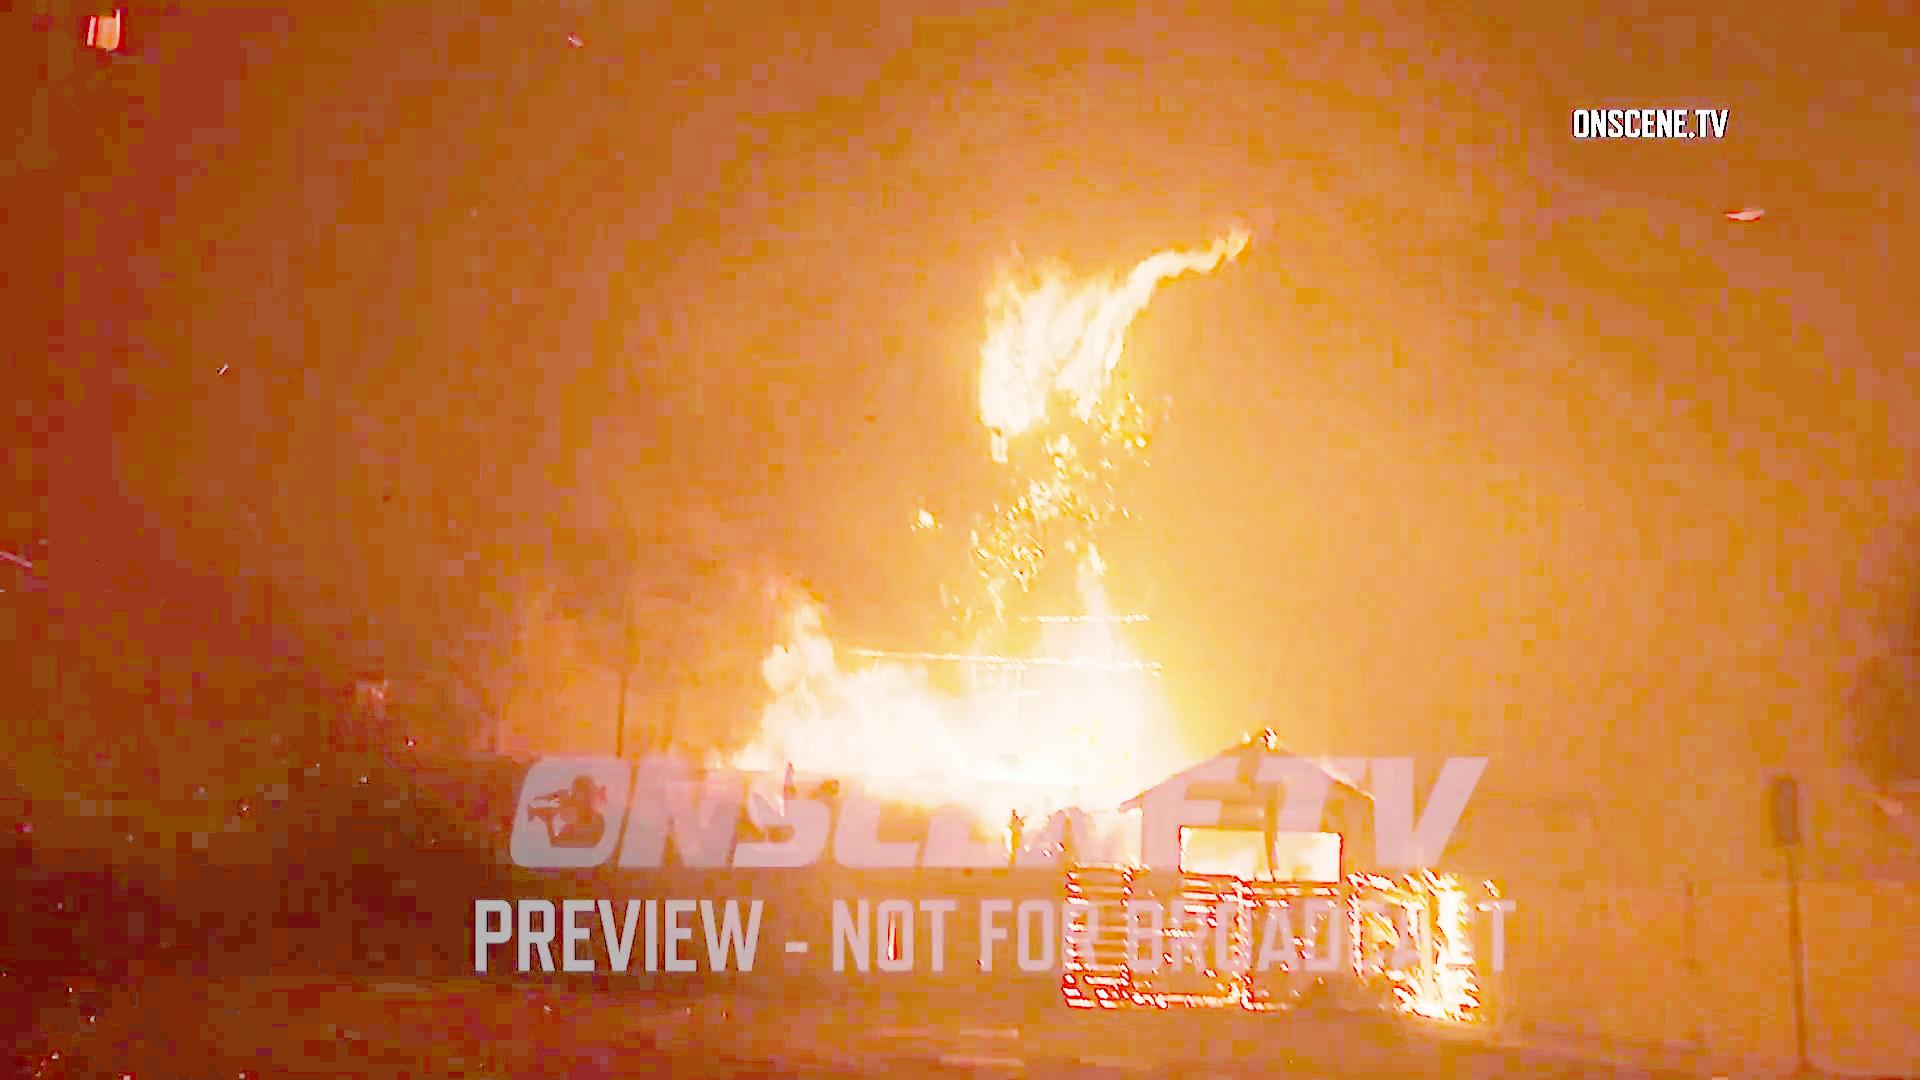fire: (688, 553, 1124, 785), (965, 248, 1191, 431), (1336, 851, 1481, 1018)
